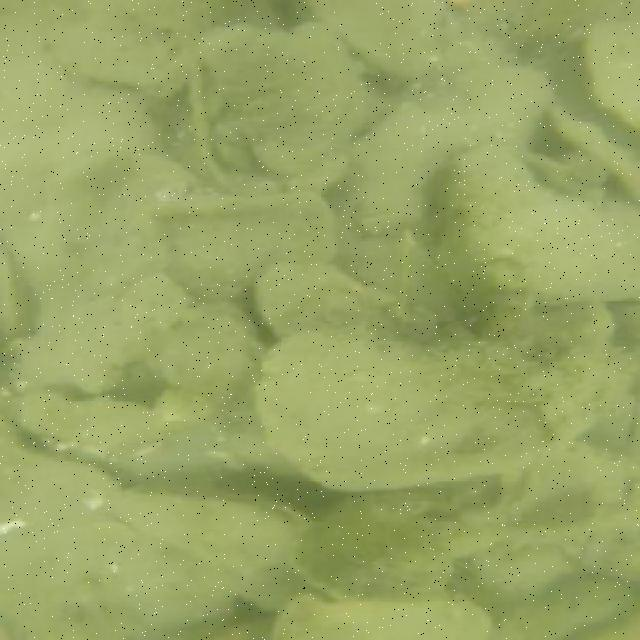Oyster-Closed: (259, 328, 637, 490), (353, 71, 551, 233), (431, 147, 622, 311), (104, 487, 337, 614), (196, 23, 365, 182), (291, 486, 463, 604), (162, 195, 339, 297), (51, 1, 213, 97), (253, 261, 434, 336), (294, 0, 442, 78), (151, 308, 265, 393), (498, 578, 622, 640), (26, 400, 151, 455), (581, 24, 640, 134)
Oyster-Open: (511, 477, 596, 544)
